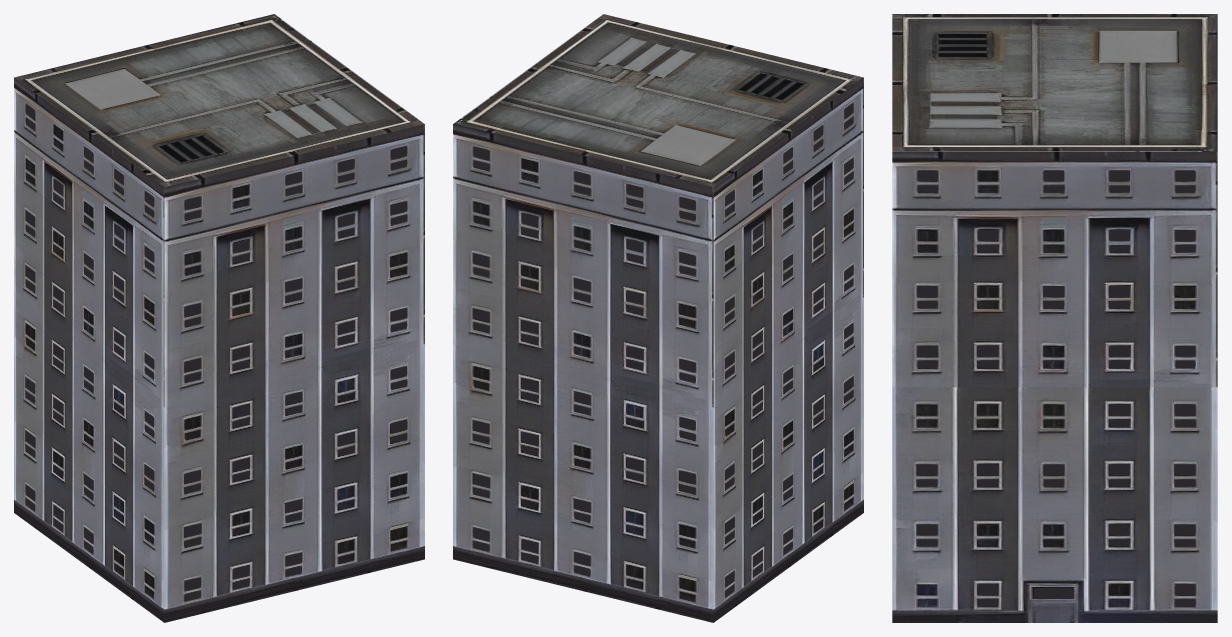
The model's file is city8storyc_hdtex.glb.
The picture shows the model from 3 angles, left to right: view 1: azimuth 30°, elevation 25°; view 2: azimuth 150°, elevation 25°; view 3: azimuth 270°, elevation 25°; orthographic projection. The views are drawn at different scales.
Visible parts, largest first — view 1: CityBlock8Story_A, LitWin_City8Story; view 2: CityBlock8Story_A, LitWin_City8Story; view 3: CityBlock8Story_A, LitWin_City8Story.
Boxes of the visible parts, x1,y1,x2,y2 form: CityBlock8Story_A: (14,14,424,622); LitWin_City8Story: (25,104,407,600); CityBlock8Story_A: (453,14,863,622); LitWin_City8Story: (473,103,853,596); CityBlock8Story_A: (892,14,1217,622); LitWin_City8Story: (917,170,1195,606).
Bounding box in the file's own units: 17.76 × 28.37 × 17.76.
1 material, 1 textured.
